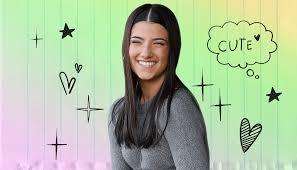Persons: (117, 5, 184, 87)
